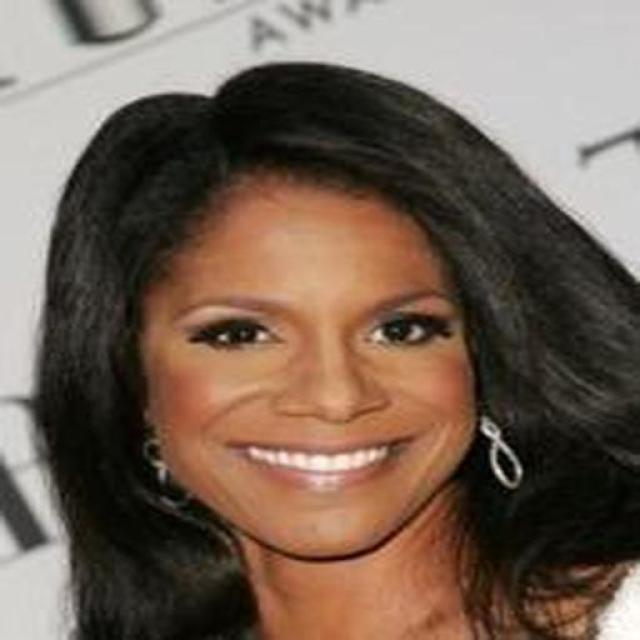bareface: (143, 227, 503, 535)
